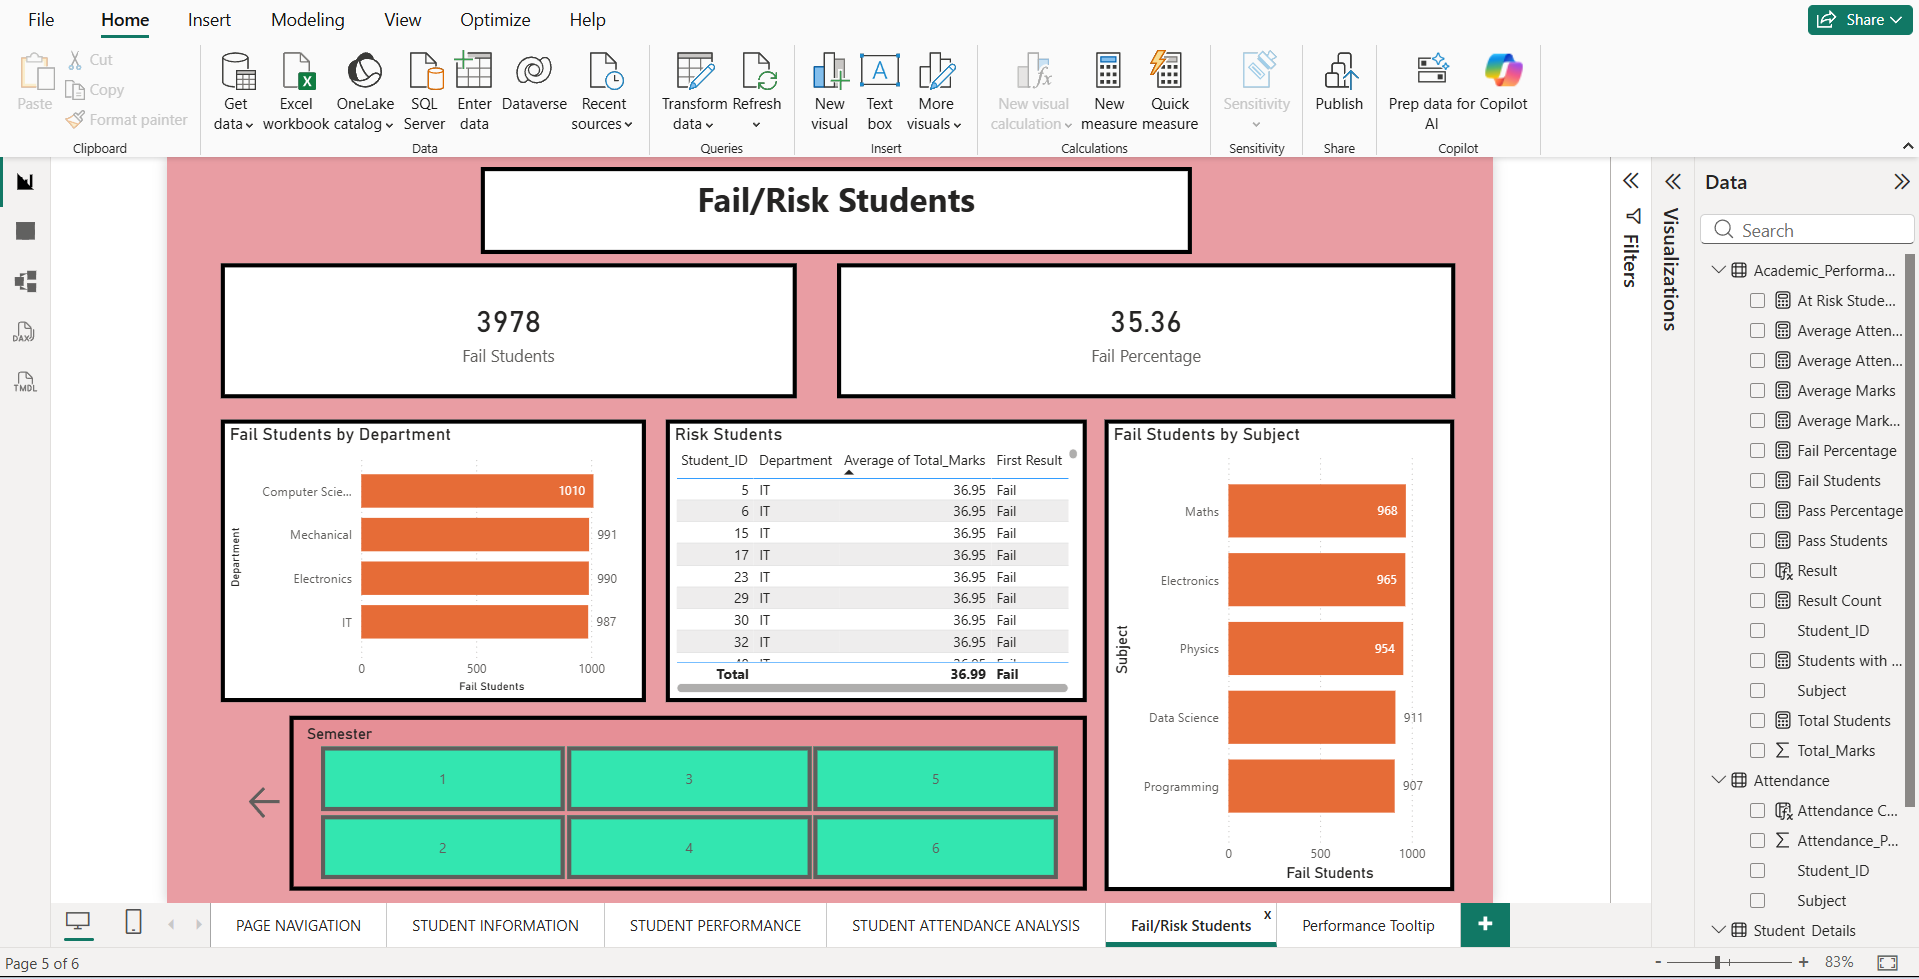

The dashboard page shown, as its layout file describes it:
{"tool":"powerbi","page":{"name":"Fail/Risk Students","canvas":[1280,720],"ordinal":4},"visuals":[{"type":"barChart","fields":{"Category":["Student_Details.Department"],"Y":["Academic_Performance.Fail Students"]},"box":[51.9,253.4,410.2,272.7],"z":0},{"type":"tableEx","title":"Risk Students","fields":{"Values":["Attendance.Student_ID","Student_Details.Department","Avg(Academic_Performance.Total_Marks)","Academic_Performance.Result"]},"box":[481.4,253.4,406.6,272.7],"z":1000},{"type":"card","fields":{"Values":["Academic_Performance.Fail Students"]},"box":[52.1,102.9,555.7,130.4],"z":2000},{"type":"card","fields":{"Values":["Academic_Performance.Fail Percentage"]},"box":[646.3,102.9,596.9,130.4],"z":3000},{"type":"slicer","fields":{"Values":["Student_Details.Semester"]},"box":[118.2,539.3,769.7,168.9],"z":4000},{"type":"textbox","box":[303.3,9.6,686.1,83.7],"z":5000},{"type":"actionButton","box":[74.8,603.2,100.1,39.8],"z":6000},{"type":"barChart","fields":{"Category":["Academic_Performance.Subject"],"Y":["Academic_Performance.Fail Students"]},"box":[904.8,253.4,337.8,454.8],"z":7000}]}

Visuals, with their boxes on the page's 1280x720 design canvas (x1, y1, x2, y2). These are canvas units, not pixel positions in the 1919x979 screenshot, which may show the page scaled, cropped or inside an application window:
barChart - Student_Details.Department x Academic_Performance.Fail Students: l=52, t=253, r=462, b=526
"Risk Students" tableEx: l=481, t=253, r=888, b=526
card - Academic_Performance.Fail Students: l=52, t=103, r=608, b=233
card - Academic_Performance.Fail Percentage: l=646, t=103, r=1243, b=233
slicer - Student_Details.Semester: l=118, t=539, r=888, b=708
textbox: l=303, t=10, r=989, b=93
actionButton: l=75, t=603, r=175, b=643
barChart - Academic_Performance.Subject x Academic_Performance.Fail Students: l=905, t=253, r=1243, b=708
